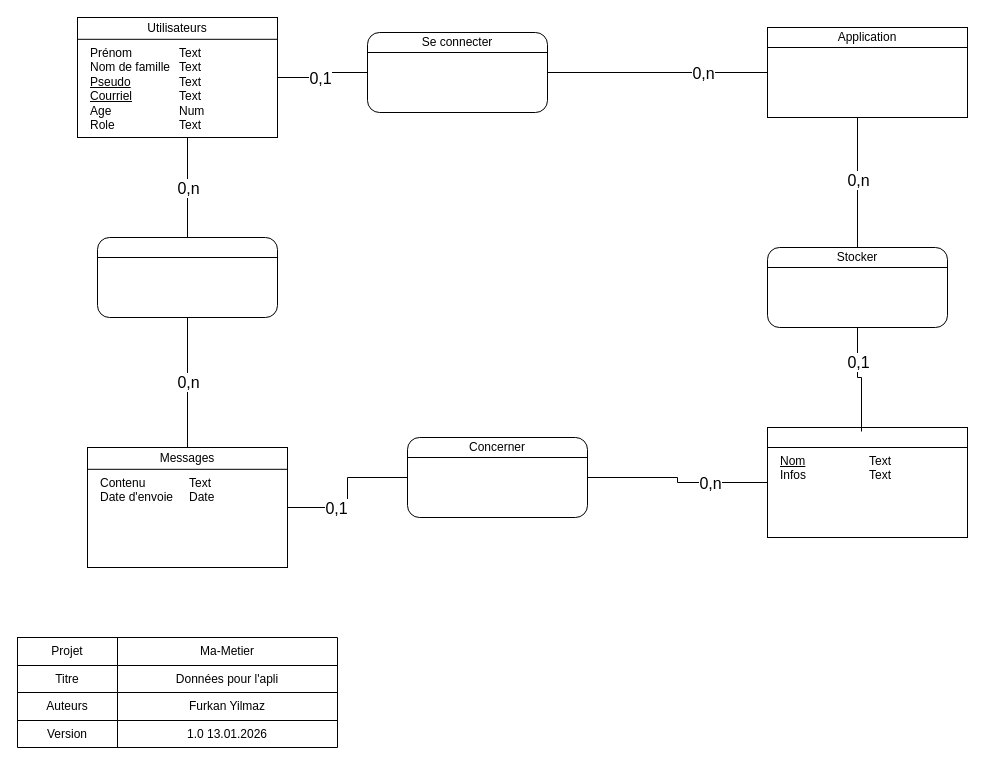
The diagram is 985 pixels wide and 765 high, and some of its shapes have lost their labels. Each missing label, with the centre of its shape:
"Domaines" belongs at point (867, 437).
"Envoyer" belongs at point (187, 277).
